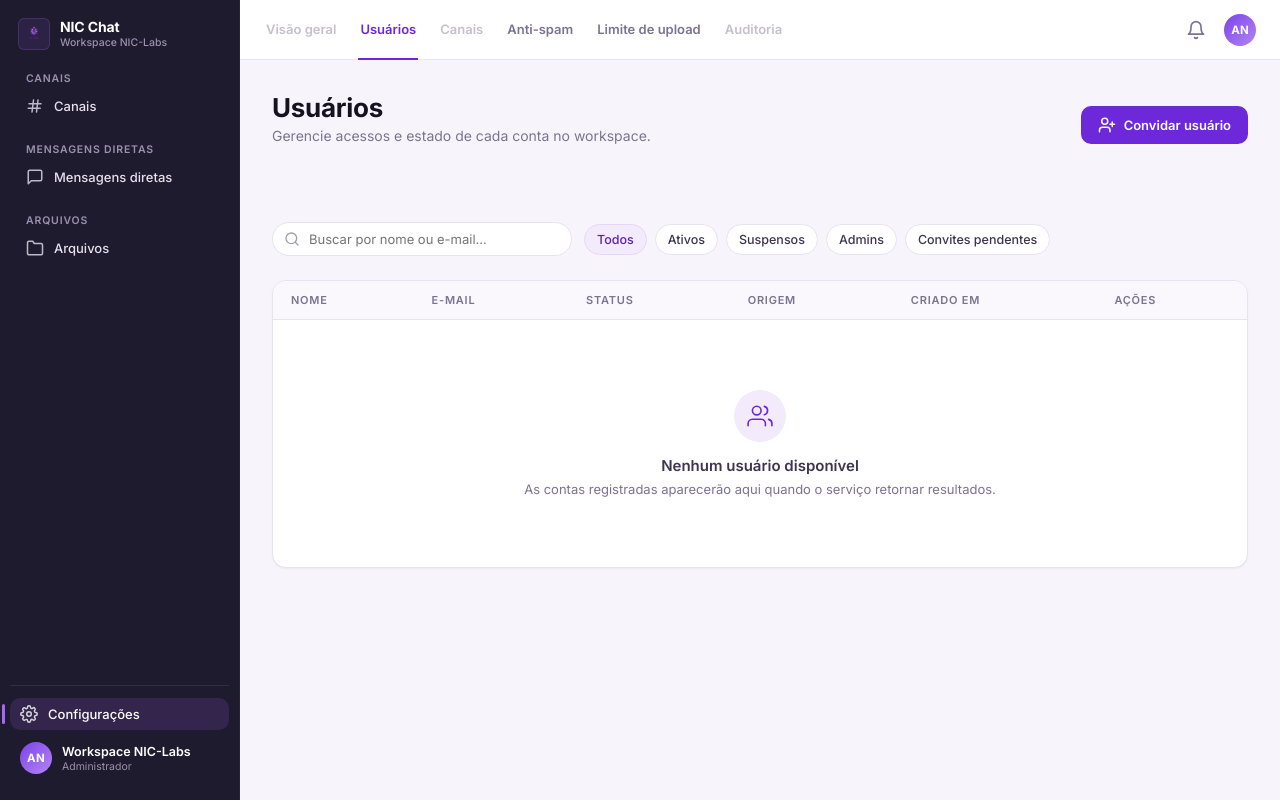
Test case: AdminUsersPage — invite submission › submits the invite and refreshes the list from the canonical source
The image size is (1280, 800).
Click the button "Convidar usuário": (1164, 125) top-left (1081, 106), bottom-right (1248, 144)
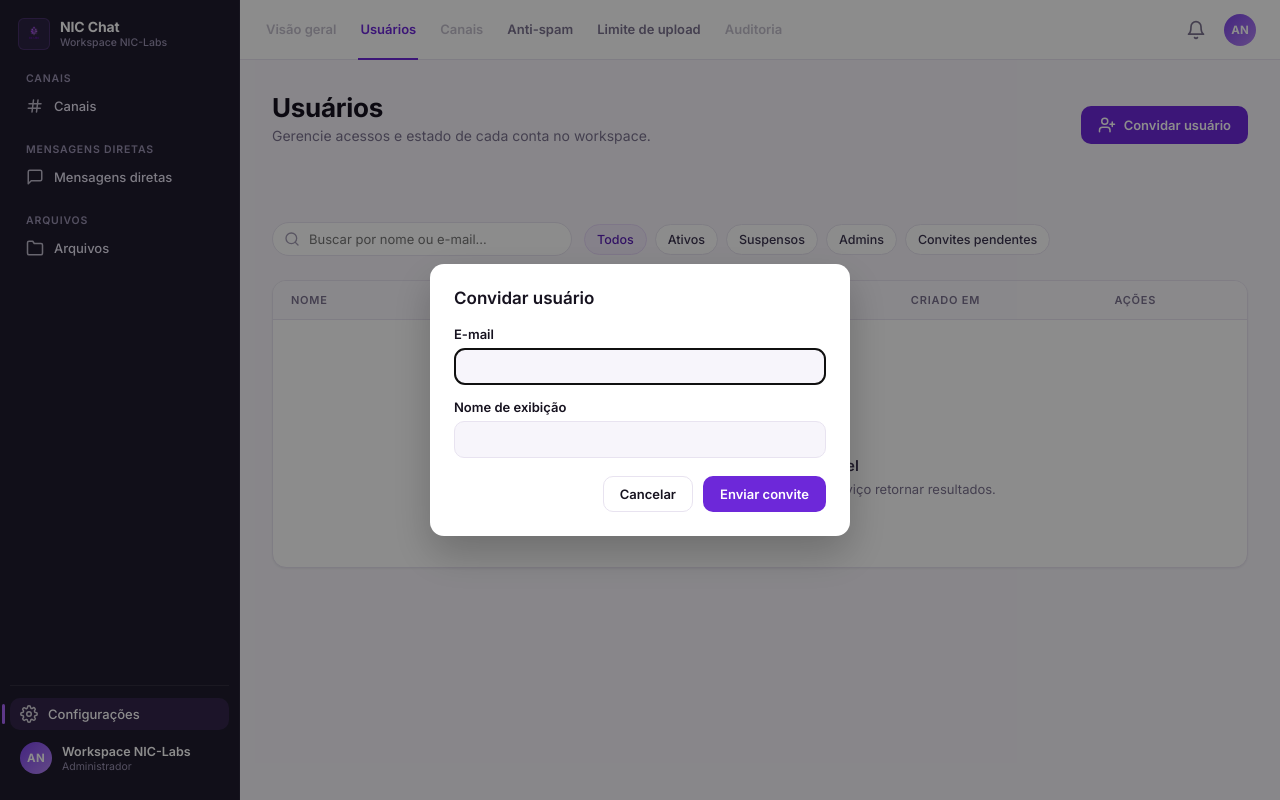
In the field labelled "E-mail": (640, 366) top-left (454, 348), bottom-right (826, 385), type "new@example.com"
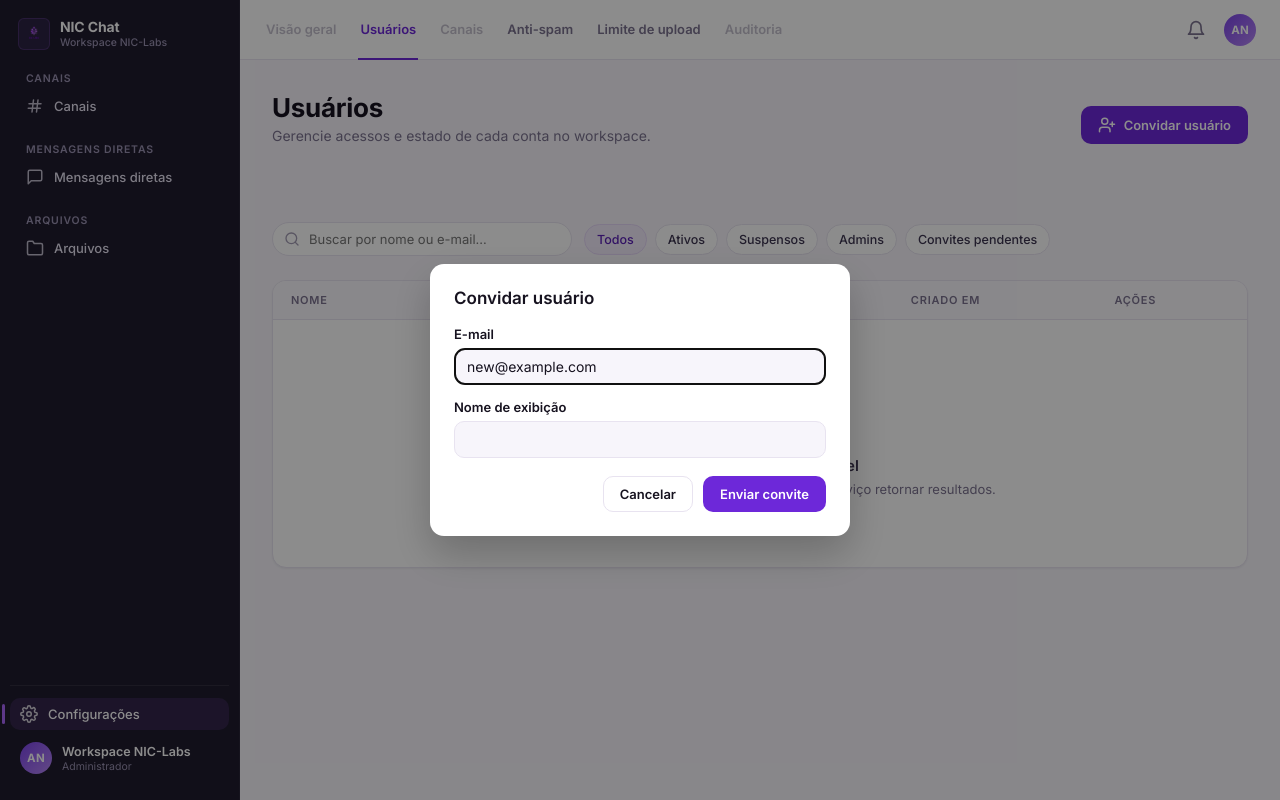
In the field labelled "Nome de exibição": (640, 440) top-left (454, 421), bottom-right (826, 458), type "New User"
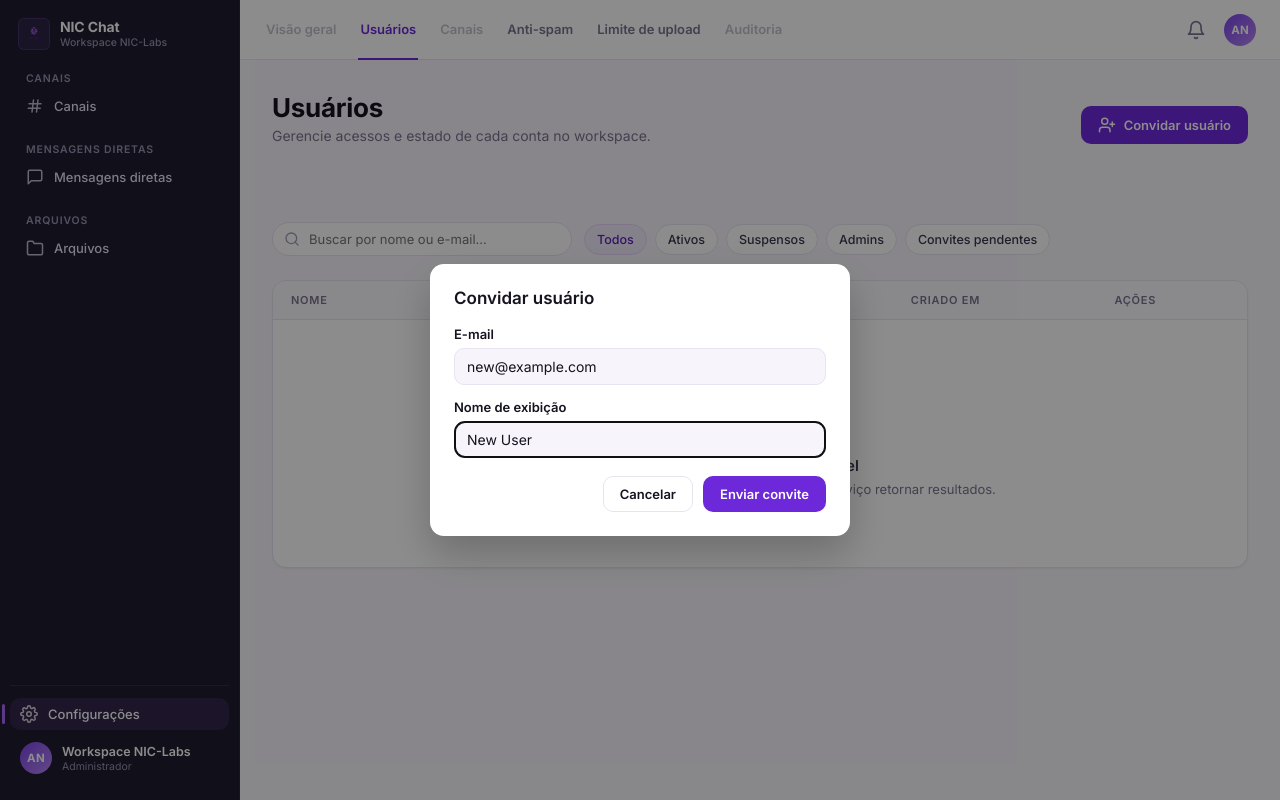
Click the button "Enviar convite": (764, 494) top-left (703, 476), bottom-right (826, 512)
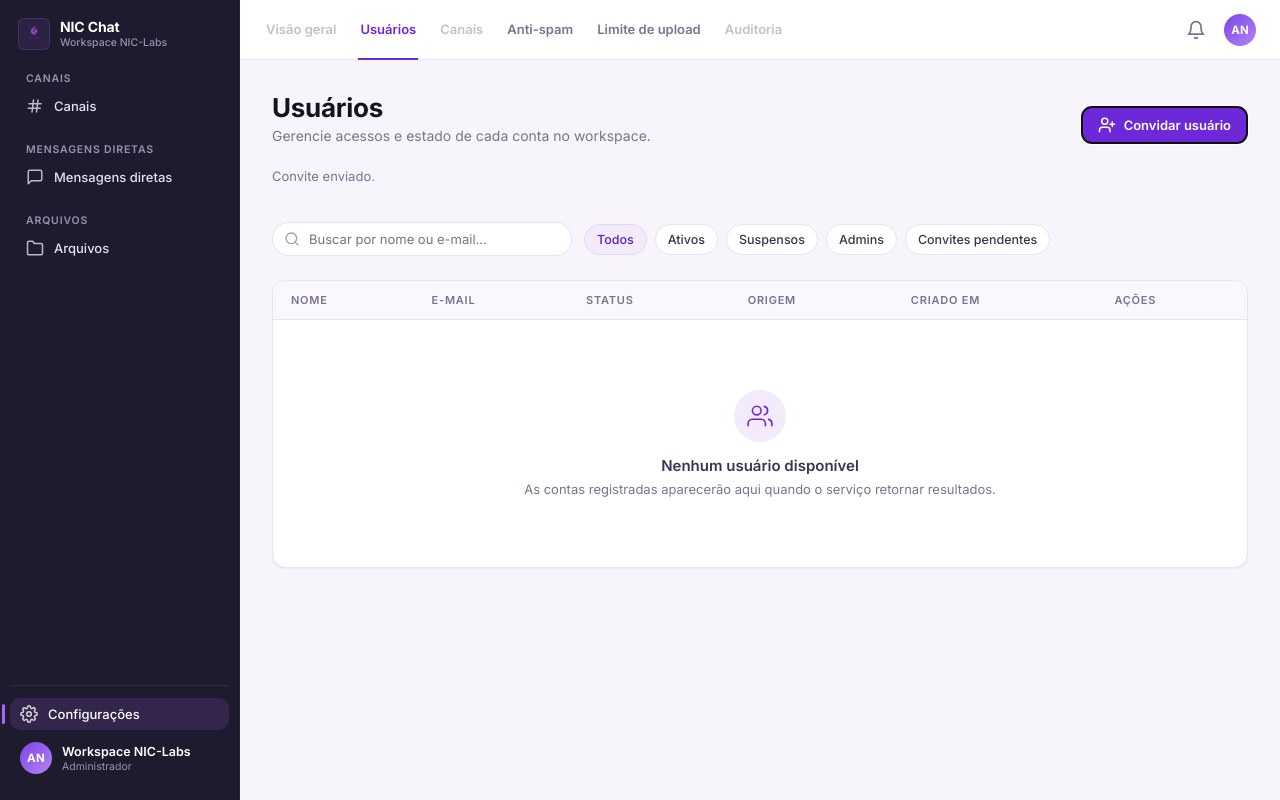
Expected: the dialog is gone
